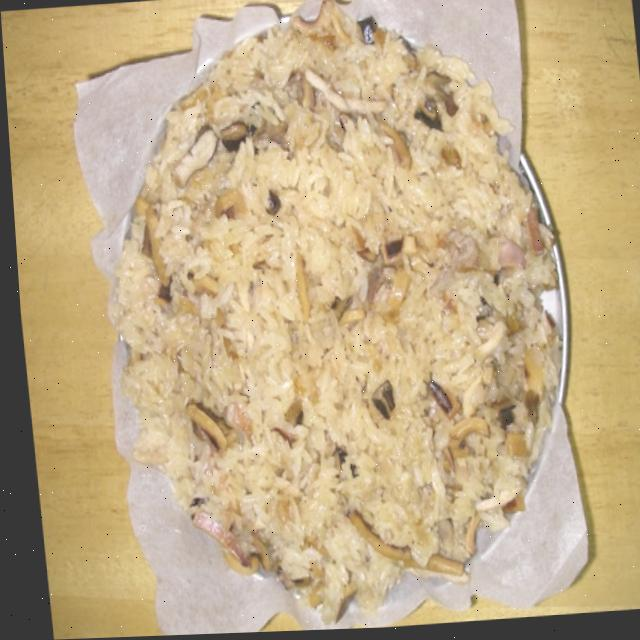米饭主食: (68, 0, 605, 638)
